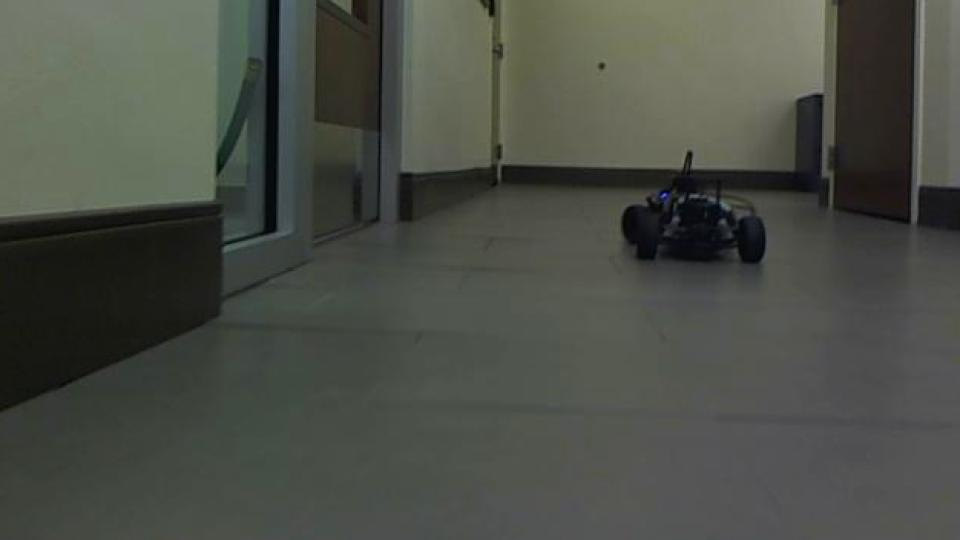car: (616, 149, 768, 267)
